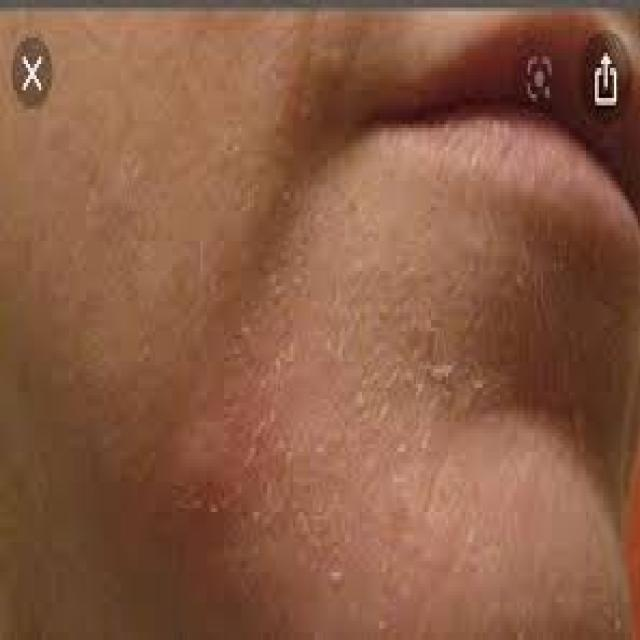flakiness: (199, 319, 496, 532)
